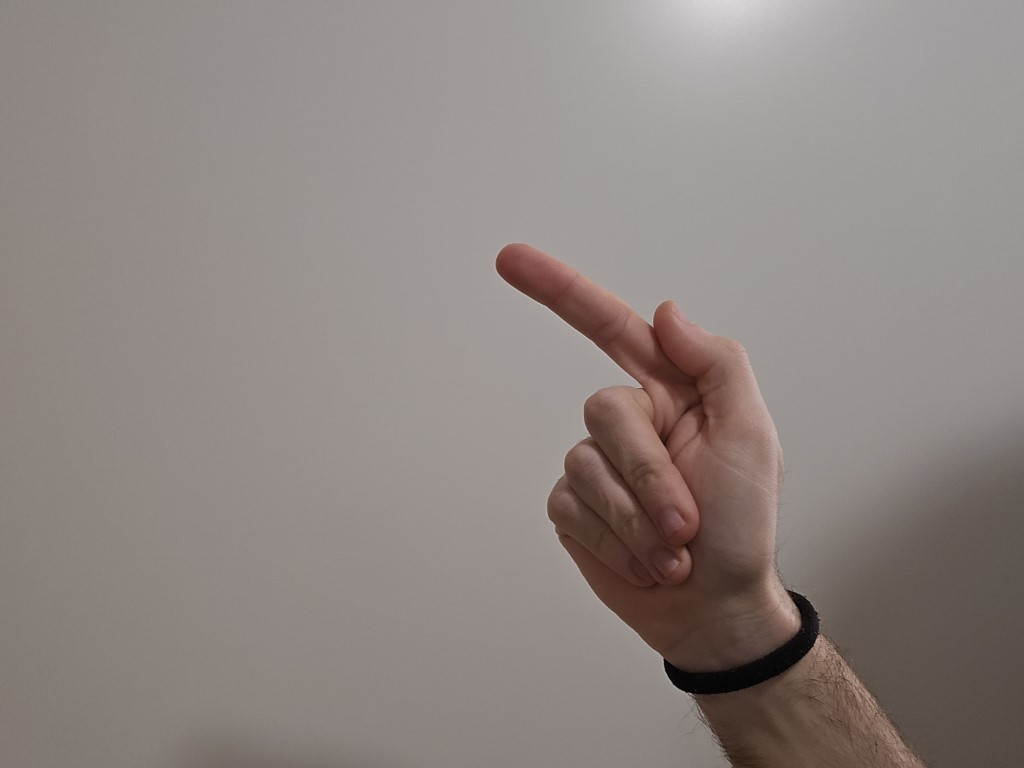g: (450, 212, 795, 642)
